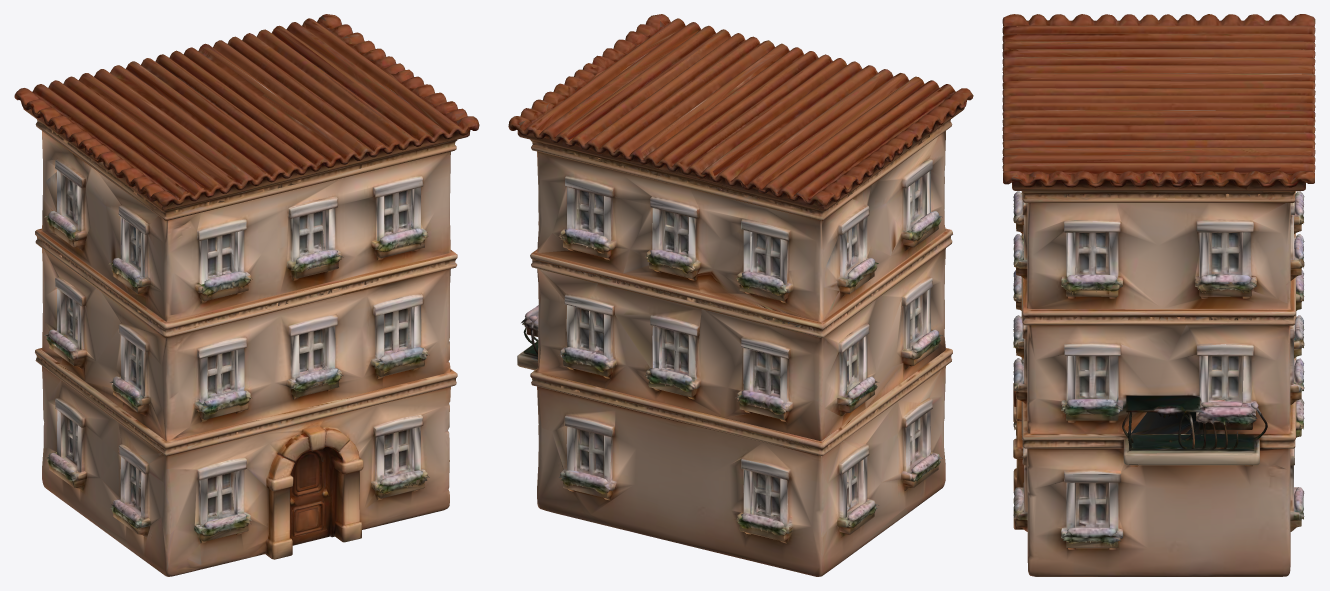
The model's file is gedung-plaza-G01.glb.
The picture shows the model from 3 angles, left to right: view 1: azimuth 30°, elevation 25°; view 2: azimuth 150°, elevation 25°; view 3: azimuth 270°, elevation 25°; orthographic projection. The views are drawn at different scales.
Visible parts, largest first — view 1: node_0; view 2: node_0; view 3: node_0.
Part boxes in pixels (bbox=[...]): node_0: bbox=[14, 14, 479, 576]; node_0: bbox=[508, 14, 973, 576]; node_0: bbox=[1002, 14, 1315, 576].
Bounding box in the file's own units: 0.7269 × 0.8051 × 0.5541.
1 material, 1 textured.
